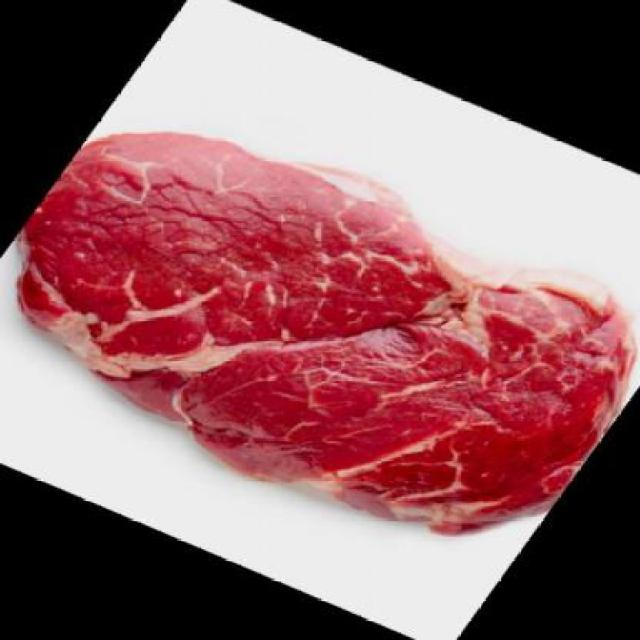beef: (0, 72, 638, 586)
